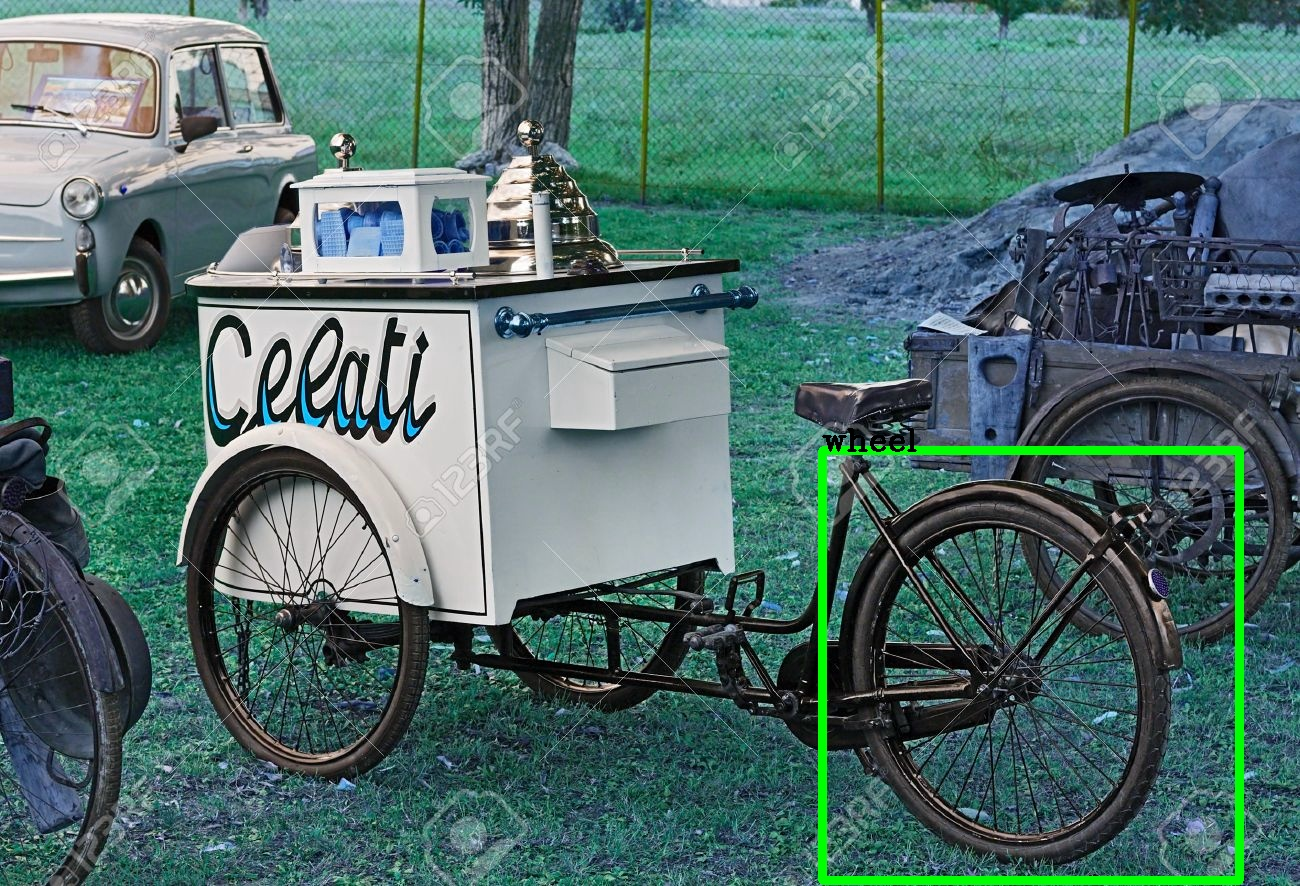wheel: (822, 450, 1239, 880)
